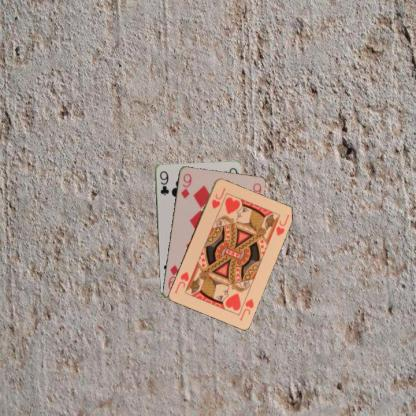9c: (157, 168, 170, 197)
9d: (178, 171, 192, 200)
Jh: (237, 296, 255, 322), (209, 185, 227, 210)
